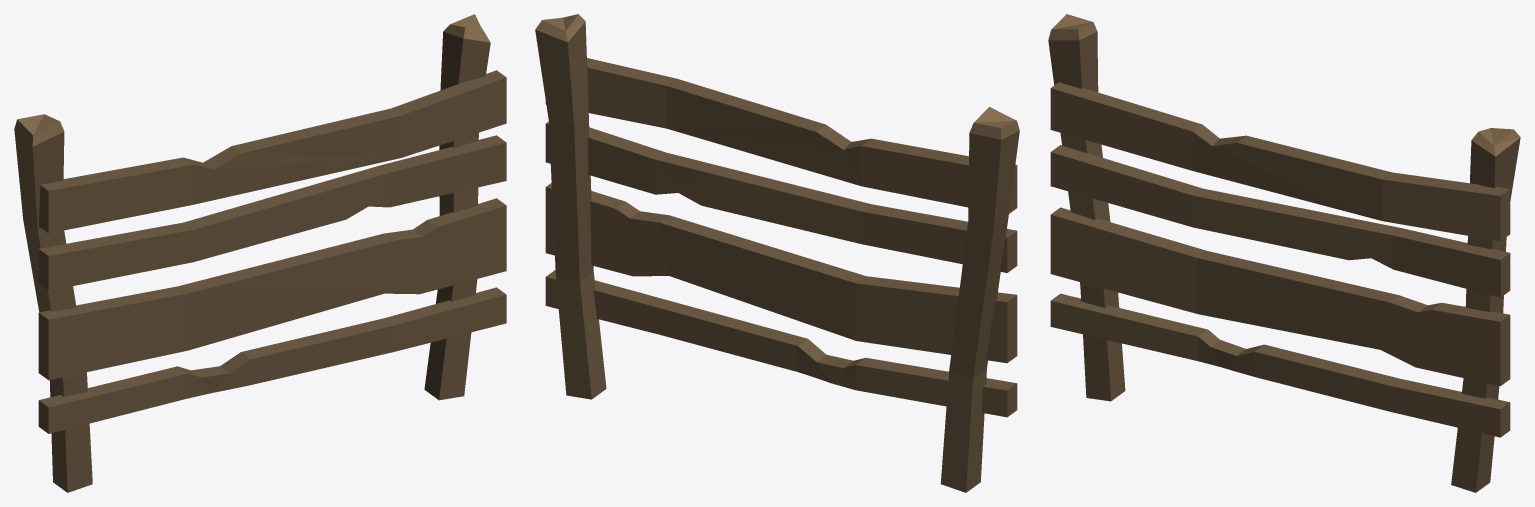
The model's file is fence_b.glb.
3 renders of one model, left to right at view 1: azimuth 30°, elevation 25°; view 2: azimuth 150°, elevation 25°; view 3: azimuth 330°, elevation 25°, orthographic. The views are drawn at different scales.
Parts seen in each view (by area): view 1: SM_Bld_Fence_02; view 2: SM_Bld_Fence_02; view 3: SM_Bld_Fence_02.
Part boxes in pixels (left/top/right/bottom): SM_Bld_Fence_02: left=14, top=14, right=506, bottom=492; SM_Bld_Fence_02: left=535, top=14, right=1019, bottom=492; SM_Bld_Fence_02: left=1048, top=14, right=1520, bottom=492.
Size of the model in its own units: 163 by 125 by 19.92.
1 material, 1 textured.
